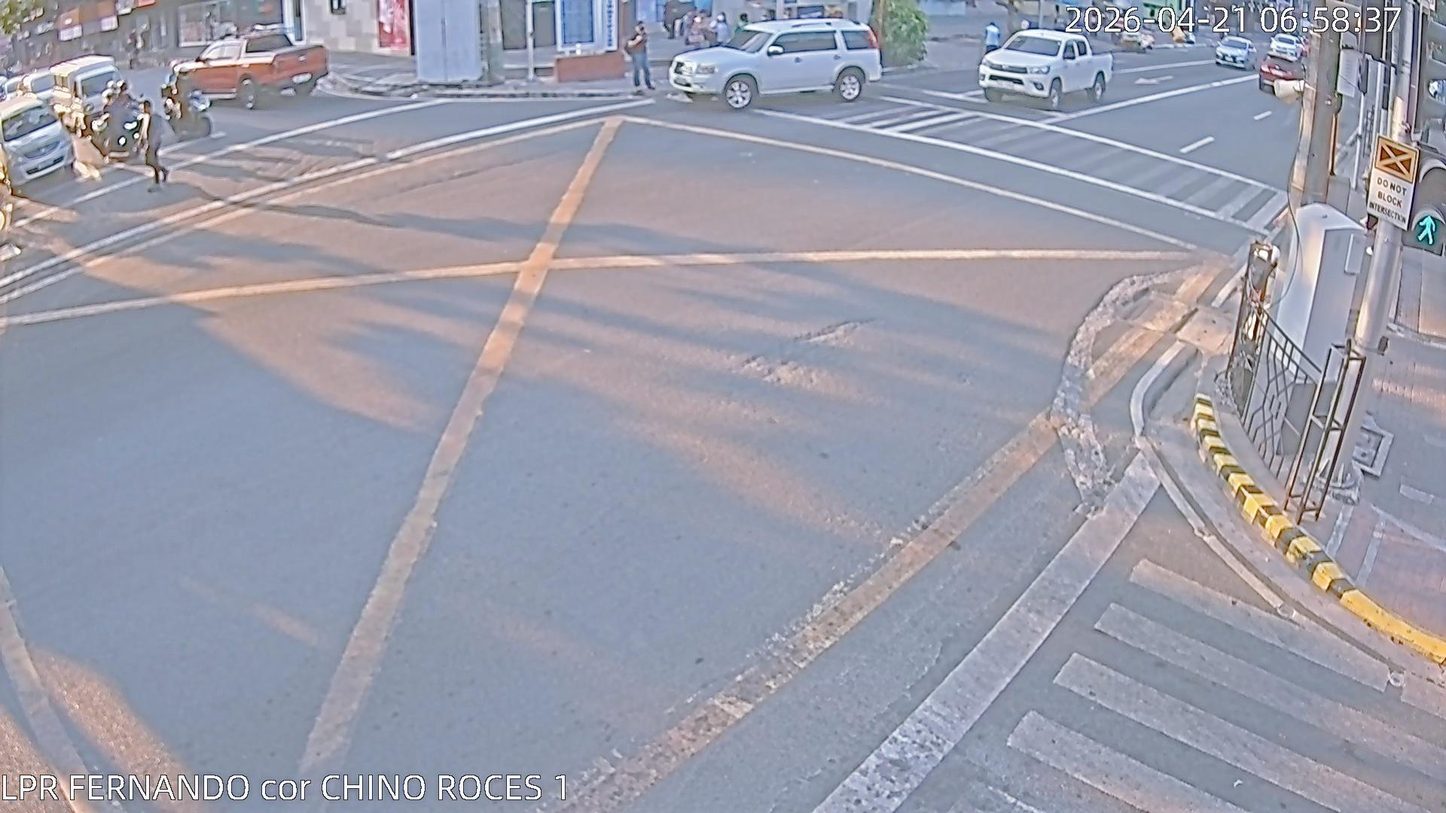Car: (664, 17, 880, 112), (166, 28, 328, 110), (976, 26, 1114, 111), (0, 93, 75, 194), (47, 56, 127, 135), (3, 69, 58, 114), (1259, 49, 1307, 94), (1214, 35, 1257, 69), (1268, 33, 1304, 61)
Motor: (86, 94, 149, 162), (157, 66, 212, 140)
